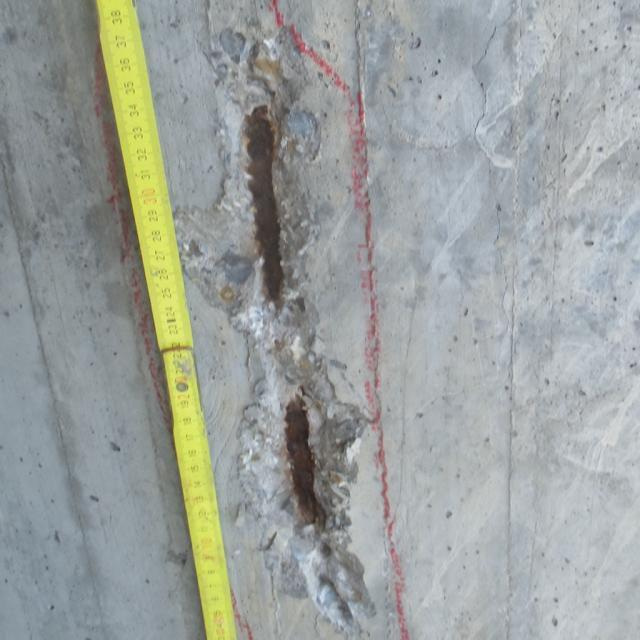D0w0: (178, 2, 381, 633)
